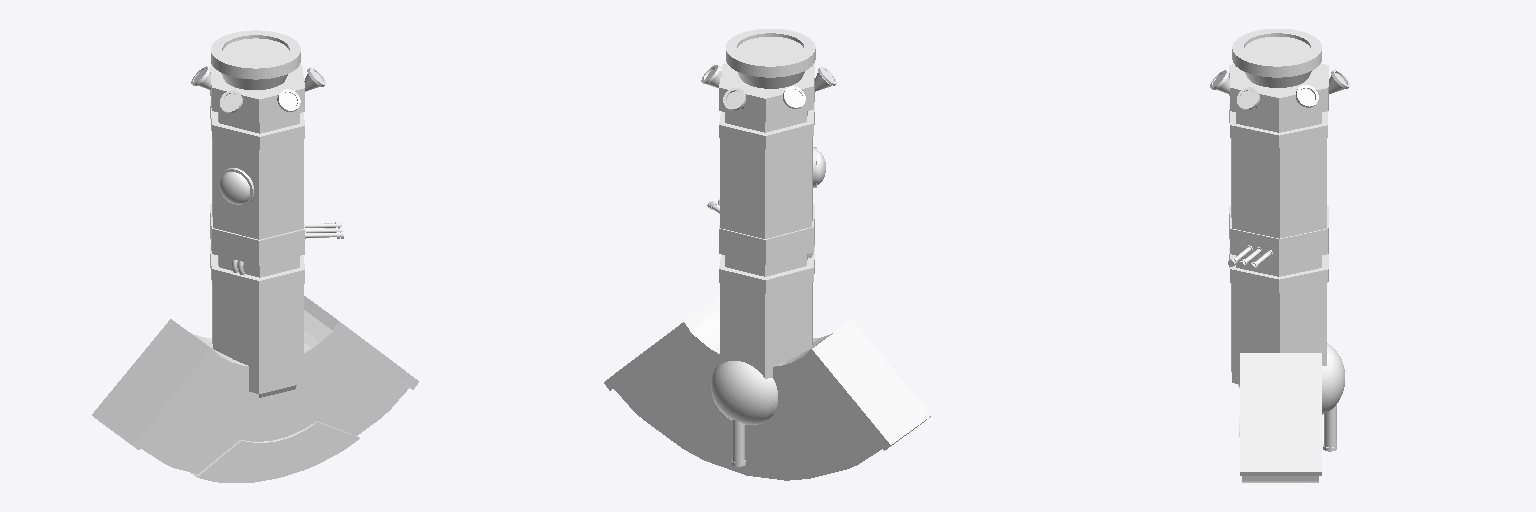
Rendered from rocketShip.obj.
The picture shows the model from 3 angles: view 1: azimuth 30°, elevation 25°; view 2: azimuth 150°, elevation 25°; view 3: azimuth 270°, elevation 25°; orthographic projection.
Parts seen in each view (by area): view 1: Object.12, Object.8, Object.13, Object.7, Object.15, Object.11, Object.3, Object.17, Object.9, Object.6, Object.48, Object.49 (+4 smaller); view 2: Object.12, Object.7, Object.13, Object.8, Object.55, Object.3, Object.11, Object.17, Object.9, Object.6, Object.48, Object.49 (+4 smaller); view 3: Object.48, Object.7, Object.8, Object.3, Object.11, Object.17, Object.9, Object.6, Object.49, Object.55, Object.4, Object.10 (+2 smaller).
Part boxes in pixels (bbox=[...]): Object.12: bbox=[141, 309, 408, 473]; Object.8: bbox=[212, 283, 303, 393]; Object.13: bbox=[92, 319, 217, 449]; Object.7: bbox=[212, 138, 303, 239]; Object.15: bbox=[190, 421, 359, 482]; Object.11: bbox=[210, 204, 304, 265]; Object.3: bbox=[210, 63, 304, 122]; Object.17: bbox=[211, 30, 300, 79]; Object.9: bbox=[210, 245, 304, 294]; Object.6: bbox=[210, 101, 304, 149]; Object.48: bbox=[304, 296, 418, 389]; Object.49: bbox=[223, 38, 288, 63]; Object.12: bbox=[614, 309, 881, 480]; Object.7: bbox=[720, 137, 812, 238]; Object.13: bbox=[806, 319, 931, 450]; Object.8: bbox=[720, 282, 812, 378]; Object.55: bbox=[711, 361, 777, 424]; Object.3: bbox=[719, 63, 814, 121]; Object.11: bbox=[719, 203, 814, 264]; Object.17: bbox=[726, 29, 815, 77]; Object.9: bbox=[719, 245, 814, 293]; Object.6: bbox=[719, 102, 814, 148]; Object.48: bbox=[604, 296, 719, 390]; Object.49: bbox=[737, 37, 803, 61]; Object.48: bbox=[1240, 353, 1321, 475]; Object.7: bbox=[1231, 138, 1326, 238]; Object.8: bbox=[1231, 283, 1326, 384]; Object.3: bbox=[1229, 64, 1328, 121]; Object.11: bbox=[1229, 206, 1328, 263]; Object.17: bbox=[1232, 29, 1321, 77]; Object.9: bbox=[1229, 247, 1328, 292]; Object.6: bbox=[1229, 103, 1327, 147]; Object.49: bbox=[1244, 37, 1310, 61]; Object.55: bbox=[1322, 343, 1344, 414]; Object.4: bbox=[1236, 112, 1321, 132]; Object.10: bbox=[1236, 255, 1321, 276].
Bounding box in the file's own units: 19.24 × 26.58 × 8.16.